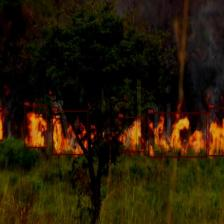fire: (148, 112, 207, 158), (52, 110, 88, 155), (24, 105, 47, 148), (118, 117, 144, 152), (208, 107, 224, 156), (0, 110, 3, 140), (90, 128, 97, 139)
